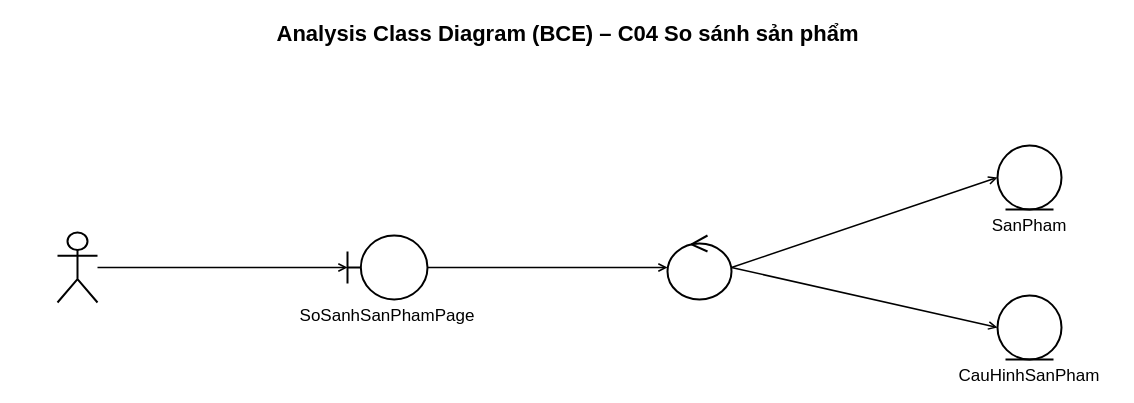
This 1134x403 diagram has some shape labels left out. Here are the shapes that lost their labels. From the top down, the centre of each, then its label:
At (x=77, y=267): "Khách hàng".
At (x=699, y=267): "SoSanhSanPhamController".
